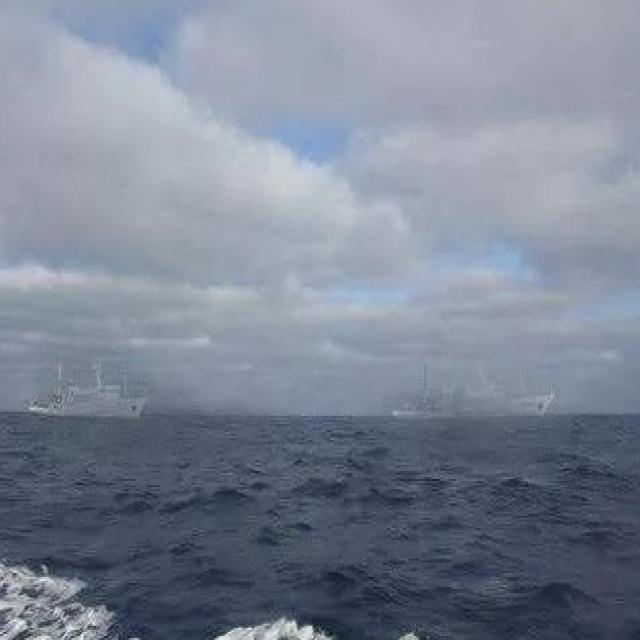passenger ship: (389, 353, 561, 423), (20, 359, 156, 421)
